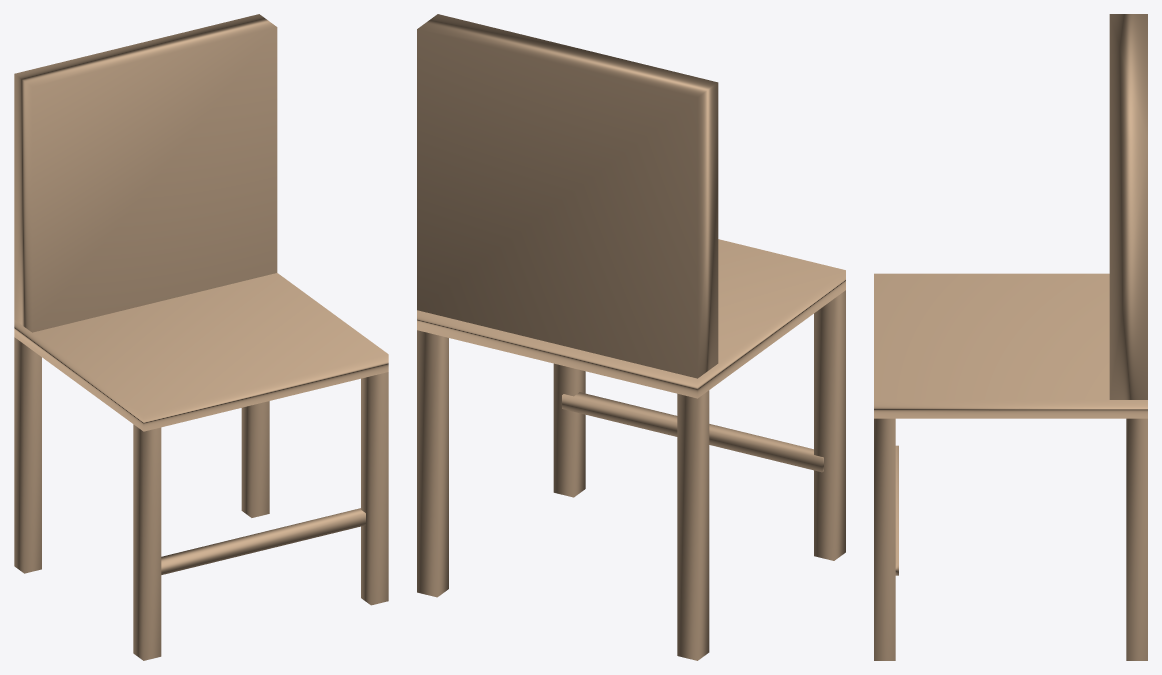
Rendered from chair.glb.
The picture shows the model from 3 angles, left to right: view 1: azimuth 30°, elevation 25°; view 2: azimuth 150°, elevation 25°; view 3: azimuth 270°, elevation 25°; orthographic projection. The views are drawn at different scales.
Parts seen in each view (by area): view 1: Back panel, Seat 470×430 mm, front-left leg, front-right leg, back-left leg, Front stretcher, back-right leg; view 2: Back panel, Seat 470×430 mm, back-left leg, back-right leg, front-left leg, Front stretcher, front-right leg; view 3: Seat 470×430 mm, Back panel, front-right leg, back-right leg, Front stretcher.
Boxes of the visible parts, x1=… form: Back panel: x1=14, y1=14, x2=277, y2=332; Seat 470×430 mm: x1=14, y1=273, x2=388, y2=431; front-left leg: x1=133, y1=424, x2=161, y2=660; front-right leg: x1=361, y1=372, x2=388, y2=605; back-left leg: x1=14, y1=337, x2=41, y2=573; Front stretcher: x1=161, y1=508, x2=365, y2=574; back-right leg: x1=241, y1=401, x2=269, y2=517; Back panel: x1=417, y1=14, x2=718, y2=378; Seat 470×430 mm: x1=417, y1=239, x2=845, y2=398; back-left leg: x1=677, y1=390, x2=709, y2=660; back-right leg: x1=417, y1=330, x2=448, y2=597; front-left leg: x1=814, y1=290, x2=845, y2=560; Front stretcher: x1=562, y1=392, x2=823, y2=472; front-right leg: x1=553, y1=363, x2=585, y2=497; Seat 470×430 mm: x1=874, y1=273, x2=1147, y2=418; Back panel: x1=1109, y1=14, x2=1147, y2=399; front-right leg: x1=874, y1=418, x2=895, y2=660; back-right leg: x1=1126, y1=418, x2=1147, y2=660; Front stretcher: x1=895, y1=445, x2=898, y2=575.
Bounding box in the file's own units: 0.47 × 0.902 × 0.43.
